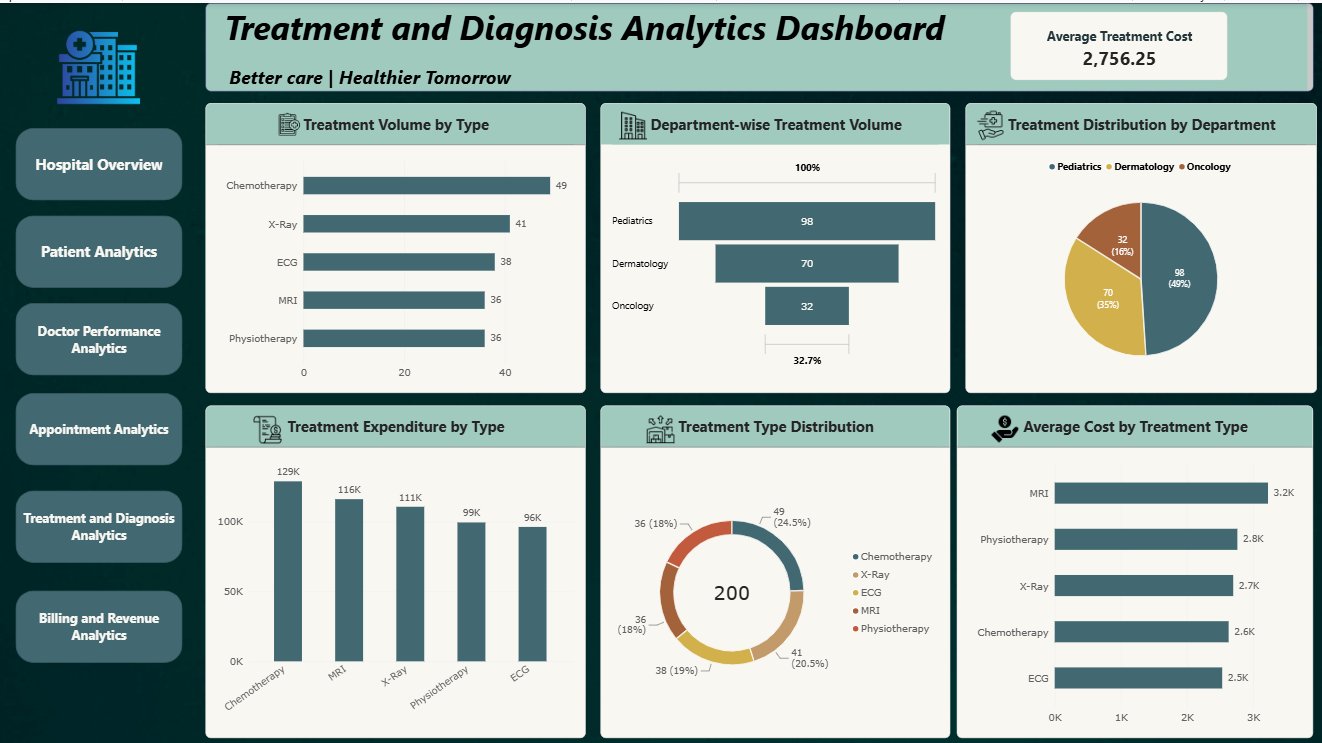

Layout of this report page (visuals, bound fields, positions):
{"tool":"powerbi","page":{"name":"Treatment and Diagnosis Analytics Dashboard","canvas":[1920,1080],"ordinal":4},"visuals":[{"type":"textbox","box":[300,0,1604,128],"z":0},{"type":"shape","box":[25.3,181,241.8,104.8],"z":1000},{"type":"shape","box":[25.3,307.6,241.8,104.8],"z":2000},{"type":"shape","box":[25.3,434.3,241.8,104.8],"z":3000},{"type":"shape","box":[25.3,564.6,241.8,104.8],"z":4000},{"type":"shape","box":[25.3,705.8,241.8,104.8],"z":5000},{"type":"image","box":[77.8,29,135.7,128.5],"z":6000},{"type":"shape","box":[25.3,850.5,241.8,104.8],"z":7000},{"type":"clusteredBarChart","title":"Treatment Volume by Type","fields":{"Category":["treatments.treatment_type"],"Y":["CountNonNull(treatments.treatment_id)"]},"box":[300.4,144.8,550.1,419.8],"z":8000},{"type":"cardVisual","fields":{"Data":["Calendar.Average Treatment Cost"]},"box":[1465.8,12.7,314.9,99.5],"z":9000},{"type":"pieChart","title":"Treatment Distribution by Department","fields":{"Category":["doctors.specialization"],"Y":["CountNonNull(billing.treatment_id)"]},"box":[1400.7,144.8,508.5,419.8],"z":10000},{"type":"clusteredColumnChart","title":"Treatment Expenditure by Type","fields":{"Category":["treatments.treatment_type"],"Y":["Calendar.Total Treatment Expenditure"]},"box":[300.4,582.7,550.1,481.4],"z":11000},{"type":"donutChart","title":"Treatment Type Distribution","fields":{"Category":["treatments.treatment_type"],"Y":["CountNonNull(treatments.treatment_id)"]},"box":[872.3,582.7,506.7,481.4],"z":12000},{"type":"clusteredBarChart","title":"Average Cost by Treatment Type","fields":{"Category":["treatments.treatment_type"],"Y":["Calendar.Average Treatment Cost"]},"box":[1388,582.7,515.8,481.4],"z":13000},{"type":"funnel","title":"Department-wise Treatment Volume","fields":{"Category":["doctors.specialization"],"Y":["CountNonNull(treatments.treatment_id)"]},"box":[872.3,144.8,506.7,419.8],"z":14000},{"type":"image","box":[405.4,157.4,32.6,36.2],"z":14001},{"type":"image","box":[894,157.4,50.7,39.8],"z":14002},{"type":"image","box":[1407.9,155.6,57.9,43.4],"z":14003},{"type":"image","box":[358.3,597.2,63.3,41.6],"z":14004},{"type":"image","box":[939.2,577.3,39.8,79.6],"z":14005},{"type":"image","box":[1436.9,593.6,41.6,47.1],"z":14006}]}

Visuals, with their boxes in screenshot pixels (x1, y1, x2, y2), scaled from the page's 1920x1080 canvas onto the 1322x743 screenshot:
textbox: Rect(207, 0, 1311, 88)
shape: Rect(17, 125, 184, 197)
shape: Rect(17, 212, 184, 284)
shape: Rect(17, 299, 184, 371)
shape: Rect(17, 388, 184, 461)
shape: Rect(17, 486, 184, 558)
image: Rect(54, 20, 147, 108)
shape: Rect(17, 585, 184, 657)
"Treatment Volume by Type" clusteredBarChart: Rect(207, 100, 586, 388)
cardVisual - Calendar.Average Treatment Cost: Rect(1009, 9, 1226, 77)
"Treatment Distribution by Department" pieChart: Rect(964, 100, 1315, 388)
"Treatment Expenditure by Type" clusteredColumnChart: Rect(207, 401, 586, 732)
"Treatment Type Distribution" donutChart: Rect(601, 401, 949, 732)
"Average Cost by Treatment Type" clusteredBarChart: Rect(956, 401, 1311, 732)
"Department-wise Treatment Volume" funnel: Rect(601, 100, 949, 388)
image: Rect(279, 108, 302, 133)
image: Rect(616, 108, 650, 136)
image: Rect(969, 107, 1009, 137)
image: Rect(247, 411, 290, 439)
image: Rect(647, 397, 674, 452)
image: Rect(989, 408, 1018, 441)
